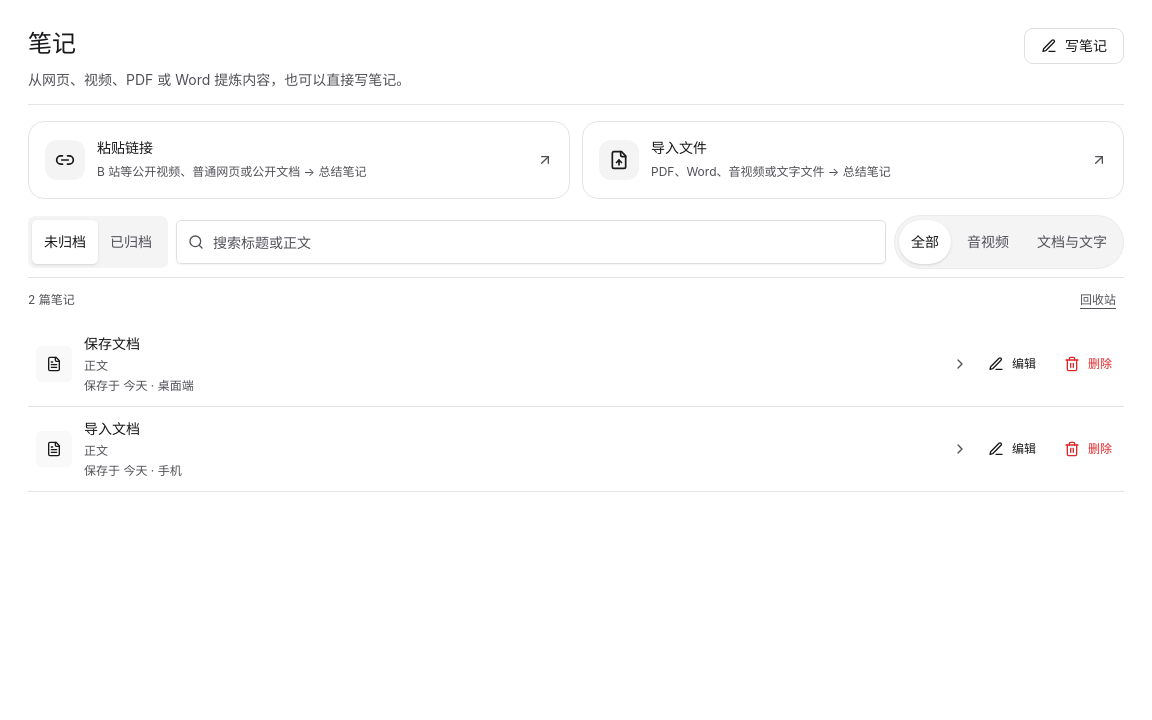
Scenario: a persistence failure keeps the target and retries only after another explicit click
The image size is (1152, 720).
Click the button with aria-label "删除《导入文档》": (1088, 449) [1052,427,1124,471]
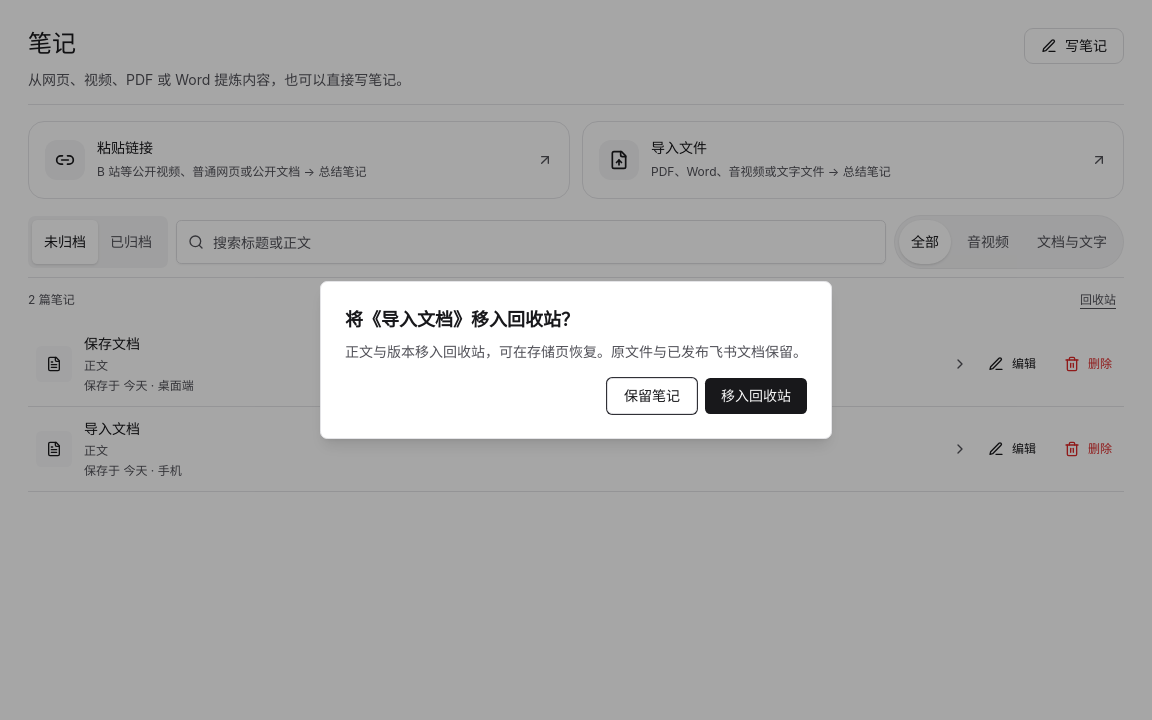
Expected: the dialog shows "将《导入文档》移入回收站？", [320,281,832,439]
Click the button "移入回收站": (756, 396) [705,378,807,414]
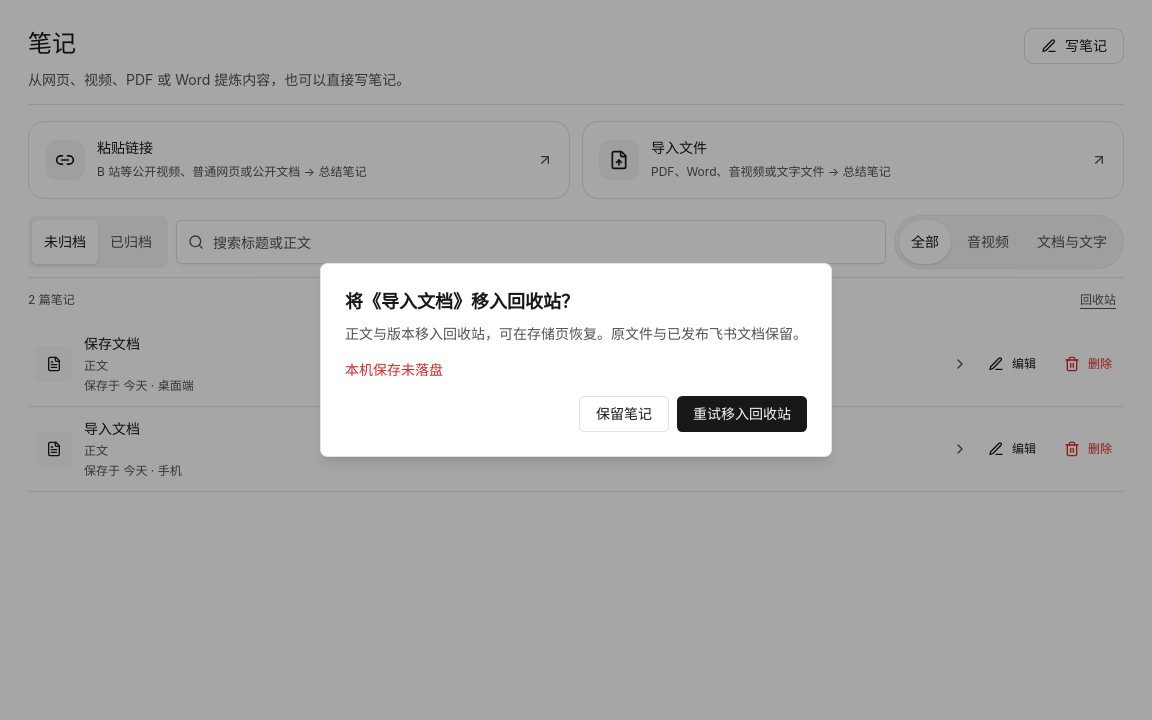
Expected: the dialog shows "将《导入文档》移入回收站？", [320,263,832,457]
Expected: the button "重试移入回收站" is enabled
Expected: the message reads "本机保存未落盘", [345,361,443,378]
Click the button "重试移入回收站": (742, 414) [677,396,807,432]
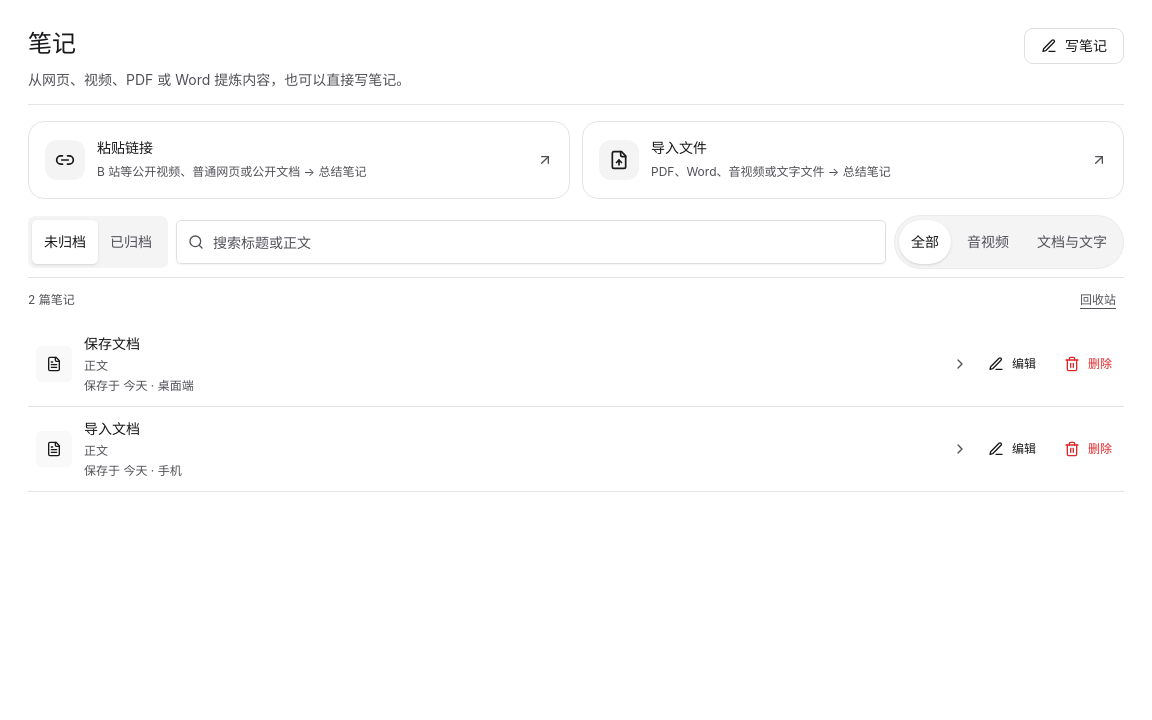
Expected: the dialog is gone
